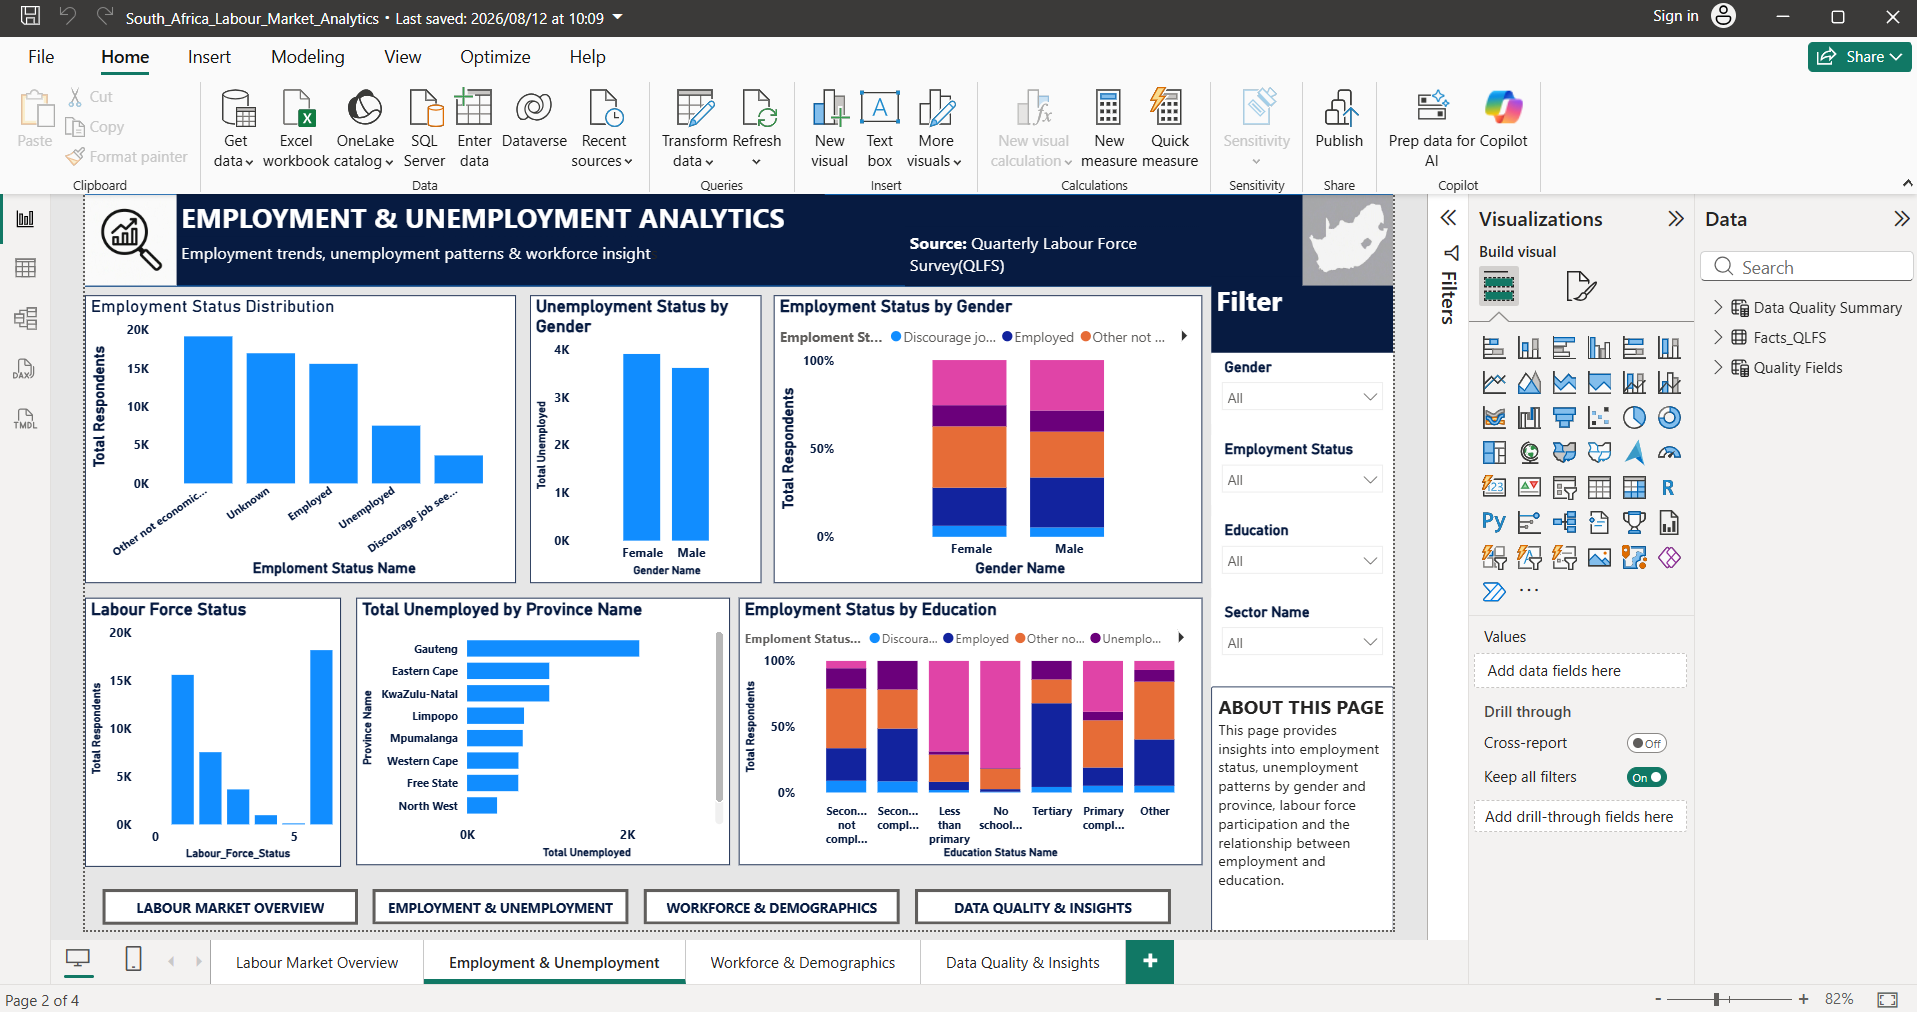

The dashboard page shown, as its layout file describes it:
{"tool":"powerbi","page":{"name":"Employment & Unemployment","canvas":[1280,720],"ordinal":1},"visuals":[{"type":"clusteredColumnChart","title":"Employment Status Distribution","fields":{"Y":["Facts_QLFS.Total Respondents"],"Category":["Facts_QLFS.Emploment Status Name"]},"box":[0,99,421.9,281.3],"z":0},{"type":"clusteredColumnChart","title":"Labour Force Status","fields":{"Category":["Facts_QLFS.Labour_Force_Status"],"Y":["Facts_QLFS.Total Respondents"]},"box":[0,395,250.7,262.9],"z":1000},{"type":"clusteredColumnChart","title":"Unemployment Status by Gender","fields":{"Category":["Facts_QLFS.Gender Name"],"Y":["Facts_QLFS.Total Unemployed"]},"box":[435.3,99,226.2,281.3],"z":2000},{"type":"hundredPercentStackedColumnChart","title":"Employment Status by Gender","fields":{"Y":["Facts_QLFS.Total Respondents"],"Category":["Facts_QLFS.Gender Name"],"Series":["Facts_QLFS.Emploment Status Name"]},"box":[673.8,99,419.4,281.3],"z":3000},{"type":"hundredPercentStackedColumnChart","title":"Employment Status by Education","fields":{"Y":["Facts_QLFS.Total Respondents"],"Category":["Facts_QLFS.Education Status Name"],"Series":["Facts_QLFS.Emploment Status Name"]},"box":[639.5,395,453.7,261.7],"z":4000},{"type":"clusteredBarChart","fields":{"Category":["Facts_QLFS.Province Name"],"Y":["Facts_QLFS.Total Unemployed"]},"box":[265.4,395,365.6,261.7],"z":5000},{"type":"slicer","fields":{"Values":["Facts_QLFS.Province Name"]},"box":[1101.9,463.3,178.1,69.6],"z":6000},{"type":"shape","box":[0,0,1280.3,90.5],"z":7000},{"type":"textbox","box":[89.3,0,634.7,63.6],"z":8000},{"type":"textbox","box":[89.3,41.6,486.7,39.1],"z":9000},{"type":"image","box":[0,0,89.3,90.5],"z":10000},{"type":"shape","box":[1101.8,90.5,178.5,629.8],"z":11000},{"type":"textbox","box":[1101.9,80.7,178.1,75.1],"z":12000},{"type":"image","box":[1191,0,89,90.4],"z":13000},{"type":"slicer","fields":{"Values":["Facts_QLFS.Gender Name"]},"box":[1101.9,155.8,178.1,69.6],"z":14000},{"type":"slicer","fields":{"Values":["Facts_QLFS.Emploment Status Name"]},"box":[1101.9,236.1,178.1,68.2],"z":15000},{"type":"slicer","fields":{"Values":["Facts_QLFS.Education Status Name"]},"box":[1101.9,314.9,178.1,69.6],"z":16000},{"type":"slicer","fields":{"Values":["Facts_QLFS.Sector Name"]},"box":[1101.9,395.1,178.1,68.2],"z":17000},{"type":"textbox","box":[1101.9,481.4,178.1,239.3],"z":18000},{"type":"actionButton","box":[16.7,680.3,250,35],"z":19000},{"type":"actionButton","box":[281.7,680.3,250.4,34.8],"z":20000},{"type":"actionButton","box":[547.1,680.3,250.4,34.8],"z":21000},{"type":"actionButton","box":[812.5,680.3,250.4,34.8],"z":22000},{"type":"textbox","box":[802.2,31.8,299.6,58.7],"z":23000}]}

Visuals, with their boxes on the page's 1280x720 design canvas (x1, y1, x2, y2). These are canvas units, not pixel positions in the 1917x1012 screenshot, which may show the page scaled, cropped or inside an application window:
"Employment Status Distribution" clusteredColumnChart: x1=0 y1=99 x2=422 y2=380
"Labour Force Status" clusteredColumnChart: x1=0 y1=395 x2=251 y2=658
"Unemployment Status by Gender" clusteredColumnChart: x1=435 y1=99 x2=662 y2=380
"Employment Status by Gender" hundredPercentStackedColumnChart: x1=674 y1=99 x2=1093 y2=380
"Employment Status by Education" hundredPercentStackedColumnChart: x1=640 y1=395 x2=1093 y2=657
clusteredBarChart - Facts_QLFS.Province Name x Facts_QLFS.Total Unemployed: x1=265 y1=395 x2=631 y2=657
slicer - Facts_QLFS.Province Name: x1=1102 y1=463 x2=1280 y2=533
shape: x1=0 y1=0 x2=1280 y2=90
textbox: x1=89 y1=0 x2=724 y2=64
textbox: x1=89 y1=42 x2=576 y2=81
image: x1=0 y1=0 x2=89 y2=90
shape: x1=1102 y1=90 x2=1280 y2=720
textbox: x1=1102 y1=81 x2=1280 y2=156
image: x1=1191 y1=0 x2=1280 y2=90
slicer - Facts_QLFS.Gender Name: x1=1102 y1=156 x2=1280 y2=225
slicer - Facts_QLFS.Emploment Status Name: x1=1102 y1=236 x2=1280 y2=304
slicer - Facts_QLFS.Education Status Name: x1=1102 y1=315 x2=1280 y2=384
slicer - Facts_QLFS.Sector Name: x1=1102 y1=395 x2=1280 y2=463
textbox: x1=1102 y1=481 x2=1280 y2=721
actionButton: x1=17 y1=680 x2=267 y2=715
actionButton: x1=282 y1=680 x2=532 y2=715
actionButton: x1=547 y1=680 x2=798 y2=715
actionButton: x1=812 y1=680 x2=1063 y2=715
textbox: x1=802 y1=32 x2=1102 y2=90
